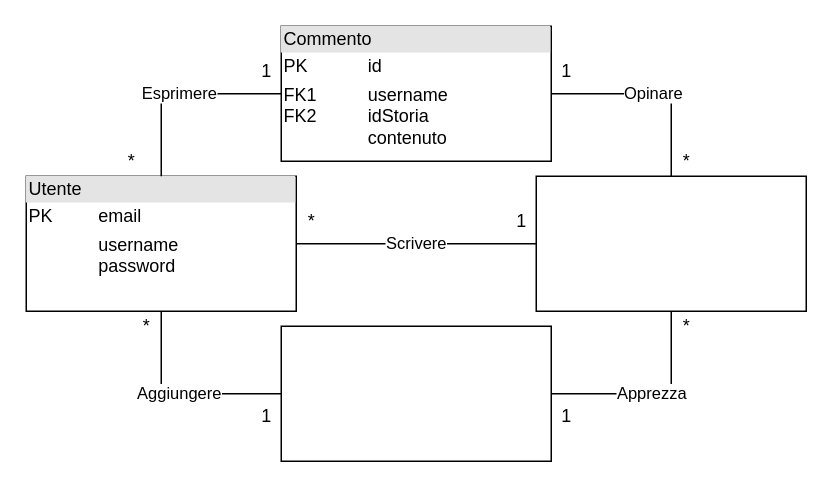
The diagram is 833 pixels wide and 488 high, and some of its shapes have lost their labels. The shapes that lost their labels are listed below. From the top down, each one's box as (x1, y1, x2, y2) in pixels, then its label:
(535, 175, 806, 311): Storia PK id FK1 username contenuto
(280, 325, 551, 461): Reazione PK emailUtente idStoria FK1 FK2 emailUtente idStoria
